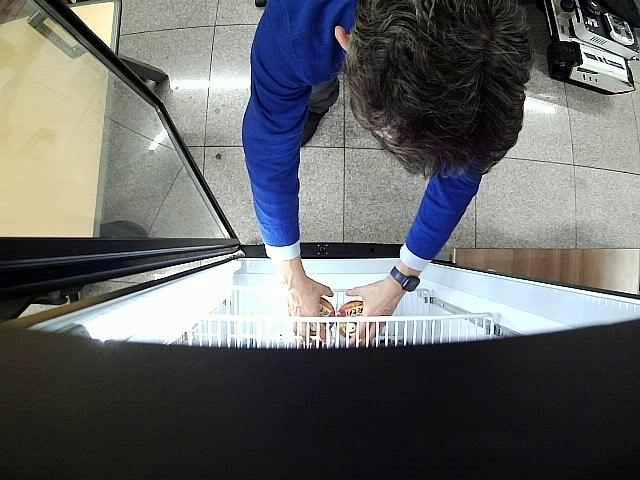06_nuguri_S: (336, 300, 364, 337), (311, 298, 335, 336)
